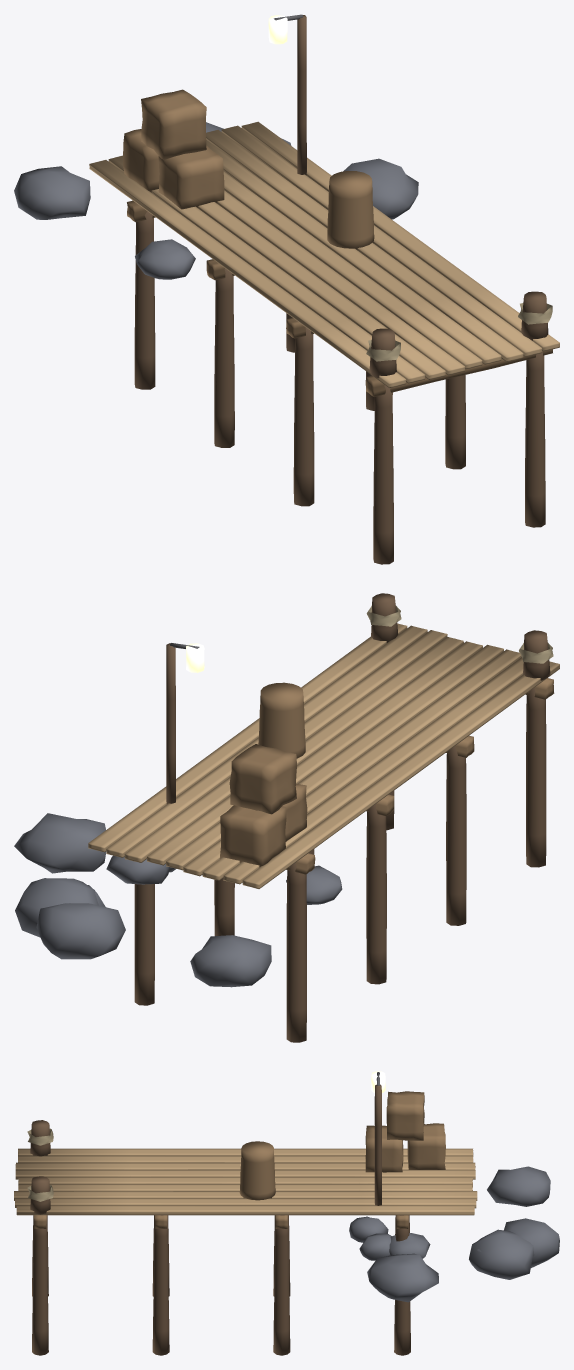
File: poi_grotto_landing.glb
3 views of the same model, one above another, from view 1: azimuth 30°, elevation 25°; view 2: azimuth 150°, elevation 25°; view 3: azimuth 270°, elevation 25° (orthographic). The views are drawn at different scales.
Parts seen in each view (by area): view 1: poi_grotto_landing; view 2: poi_grotto_landing; view 3: poi_grotto_landing.
Part boxes in pixels (x1,y1,x2,y2): poi_grotto_landing: (14,14,559,564); poi_grotto_landing: (14,593,559,1042); poi_grotto_landing: (14,1071,559,1355).
Bounding box in the file's own units: 4.62 × 4.87 × 9.04.
